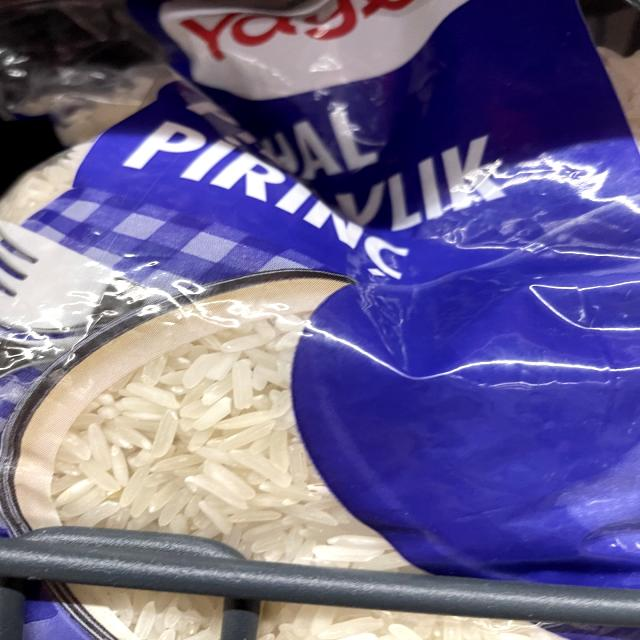rice: (103, 378, 268, 518)
